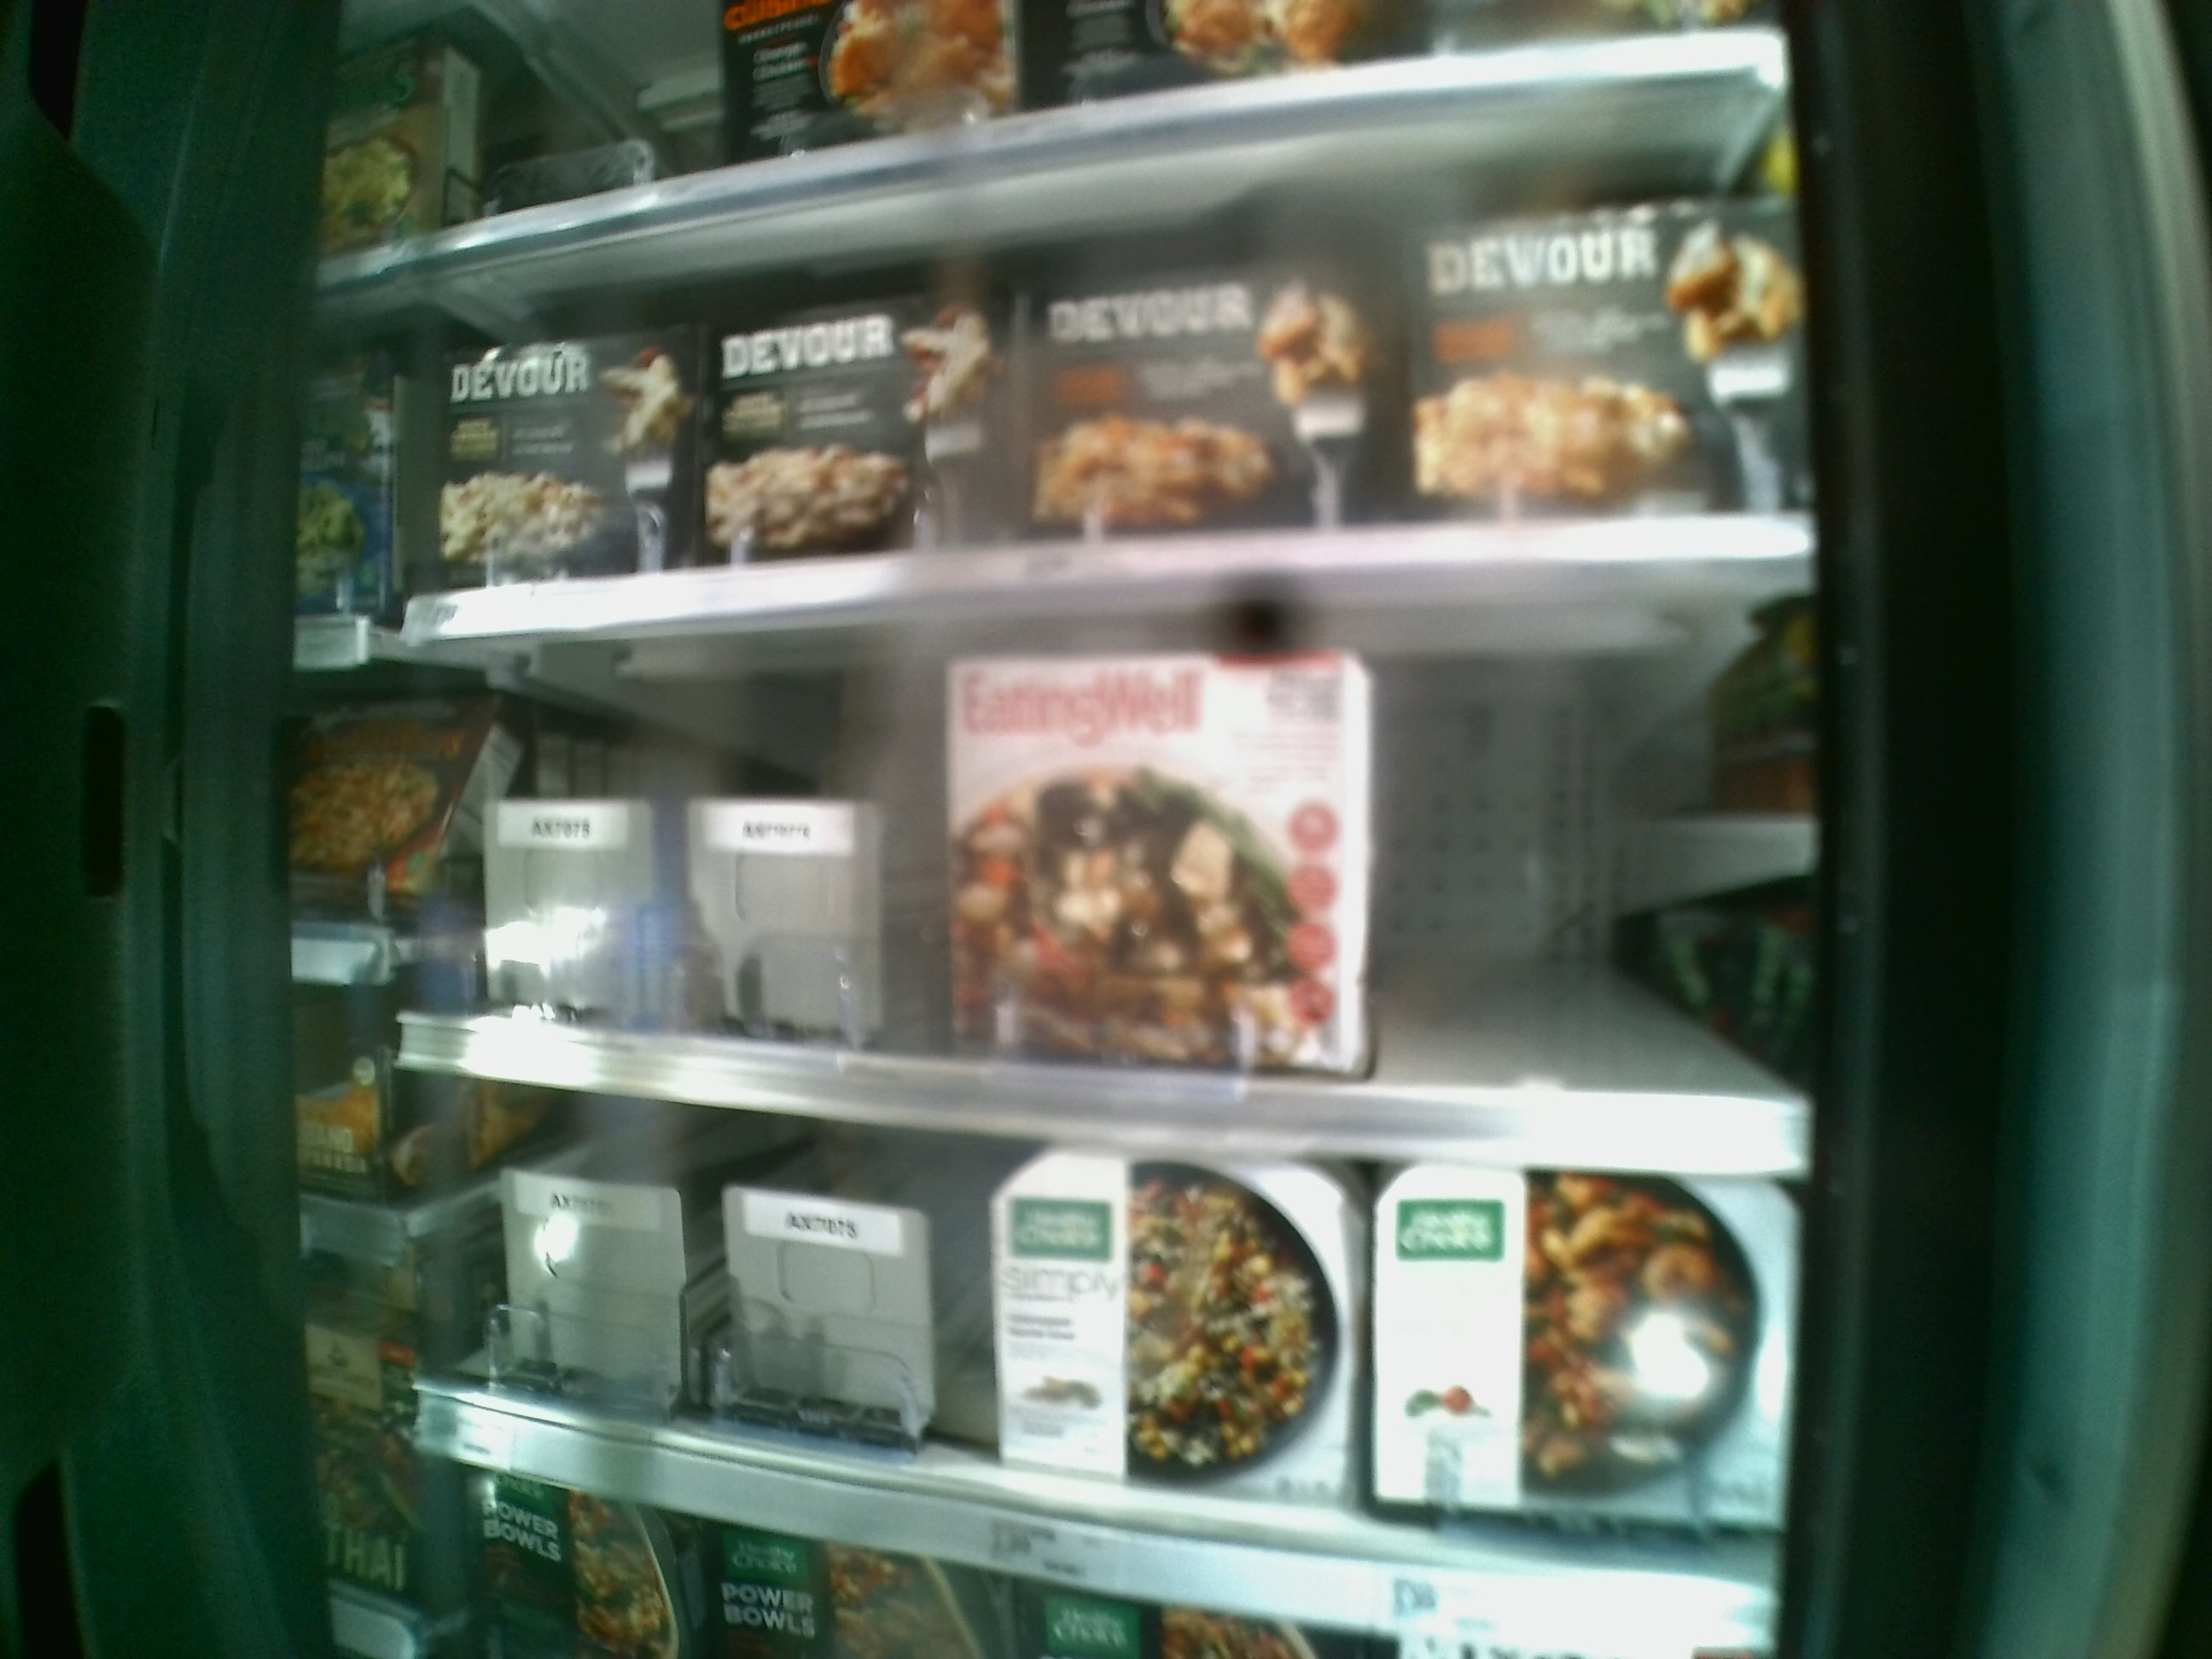Shelf: (394, 641, 1822, 1168)
